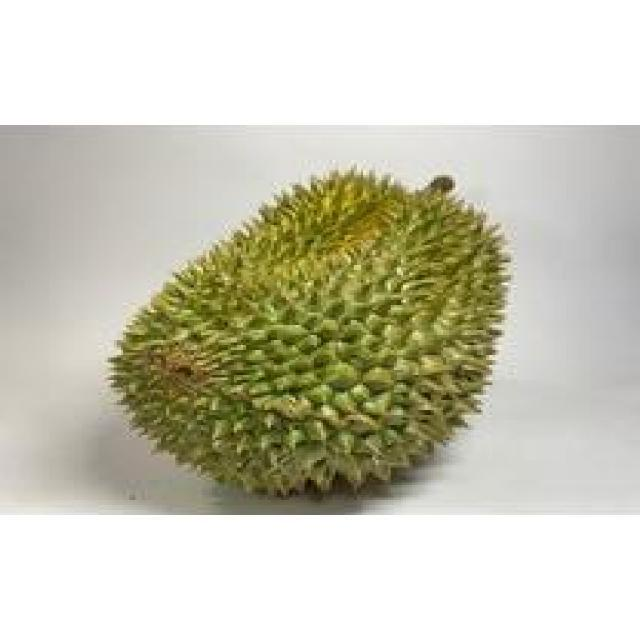fruit: (144, 148, 536, 520)
